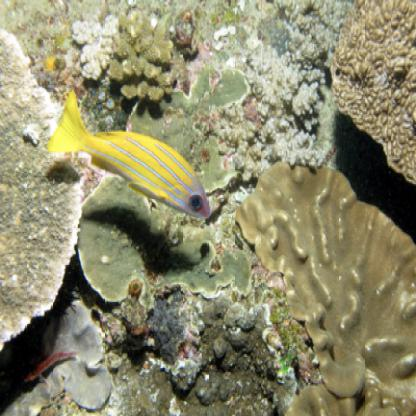Lutjanidae -Snappers-: (46, 83, 220, 232)
